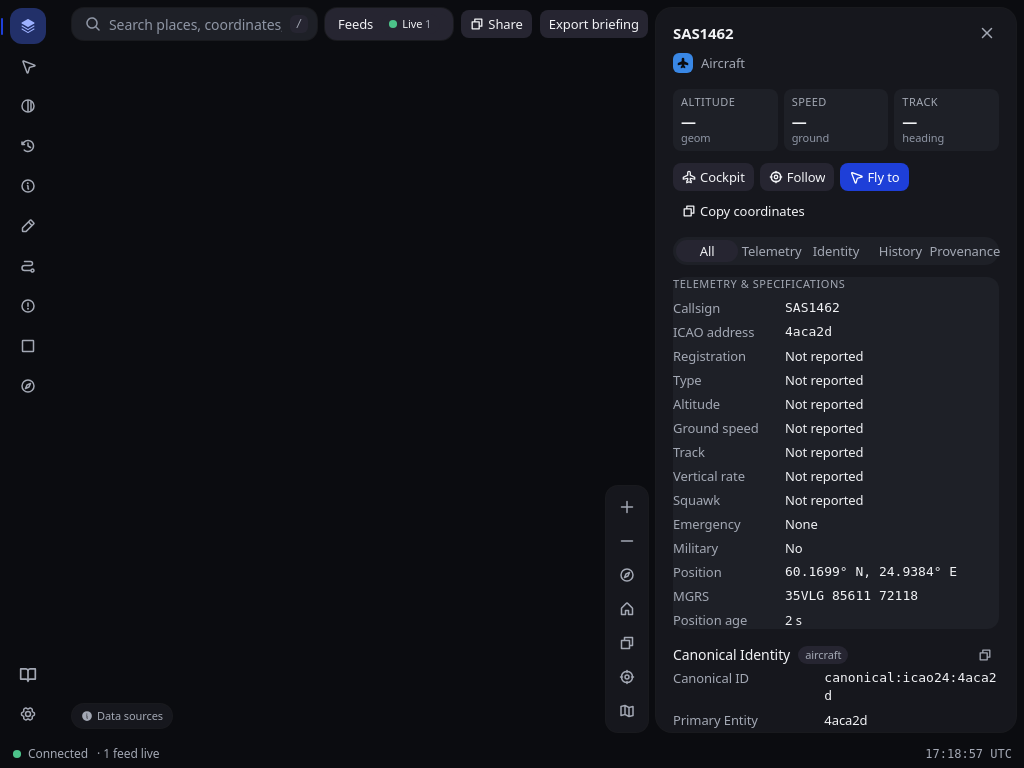
App shell › lets the island opened last win when both would crowd the globe
Expected: the element "SAS1462" is shown, [656, 8, 1016, 732]
What coordinates should you click on to do the following:
click the button named "Sources"
I would click on:
 (28, 186)
Its box is [10, 168, 46, 204].
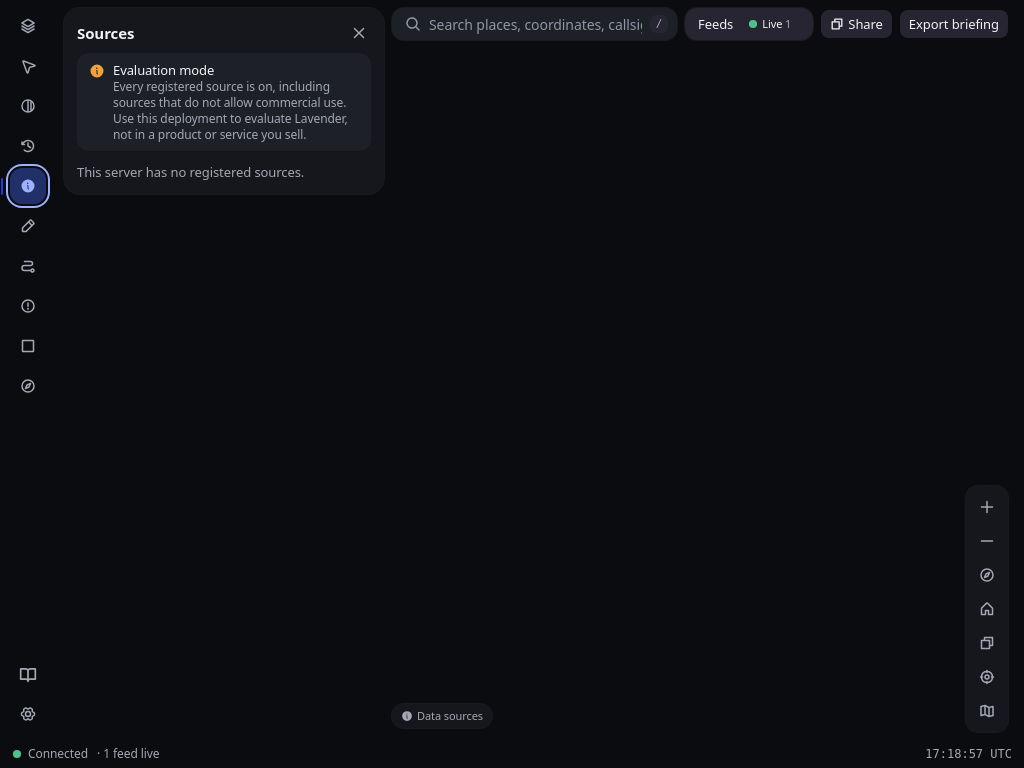
Expected: the element "Sources" is shown, [64, 8, 384, 194]
Expected: the heading "SAS1462" is gone
